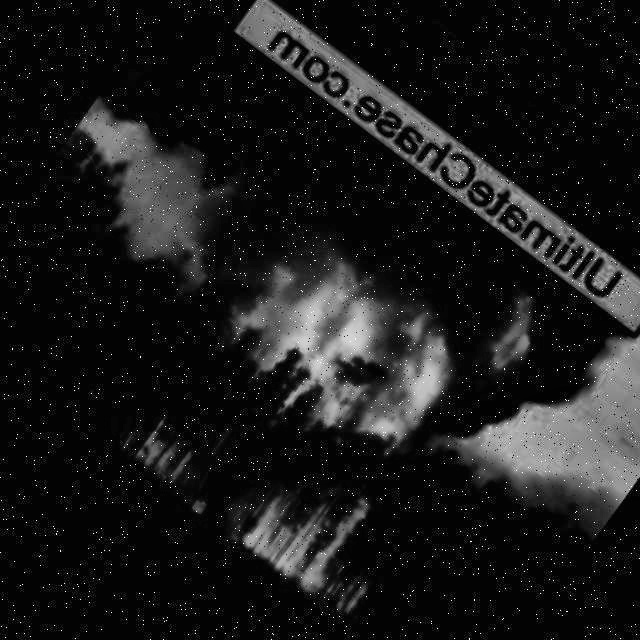Fire: (69, 344, 402, 630), (203, 222, 476, 471), (442, 281, 561, 403)
Smoke: (105, 0, 521, 343), (211, 0, 640, 306), (15, 77, 298, 335)
